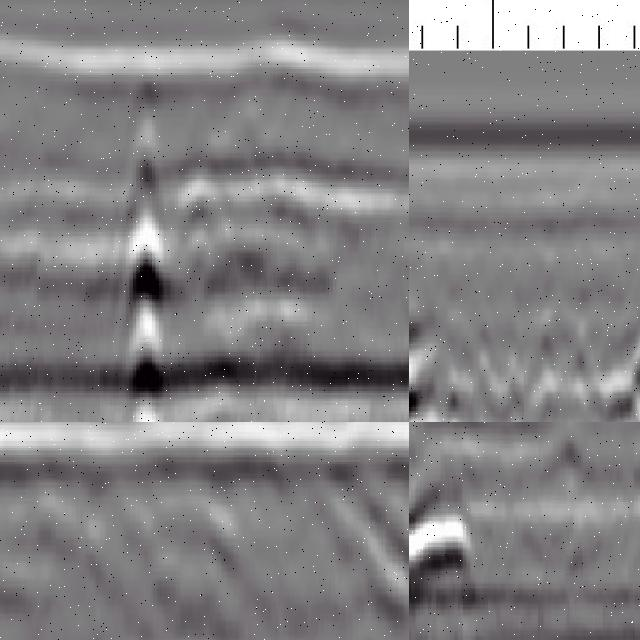crack: (125, 62, 170, 423), (410, 210, 439, 423)
loose: (1, 442, 410, 640), (177, 148, 410, 402), (410, 463, 546, 617)
